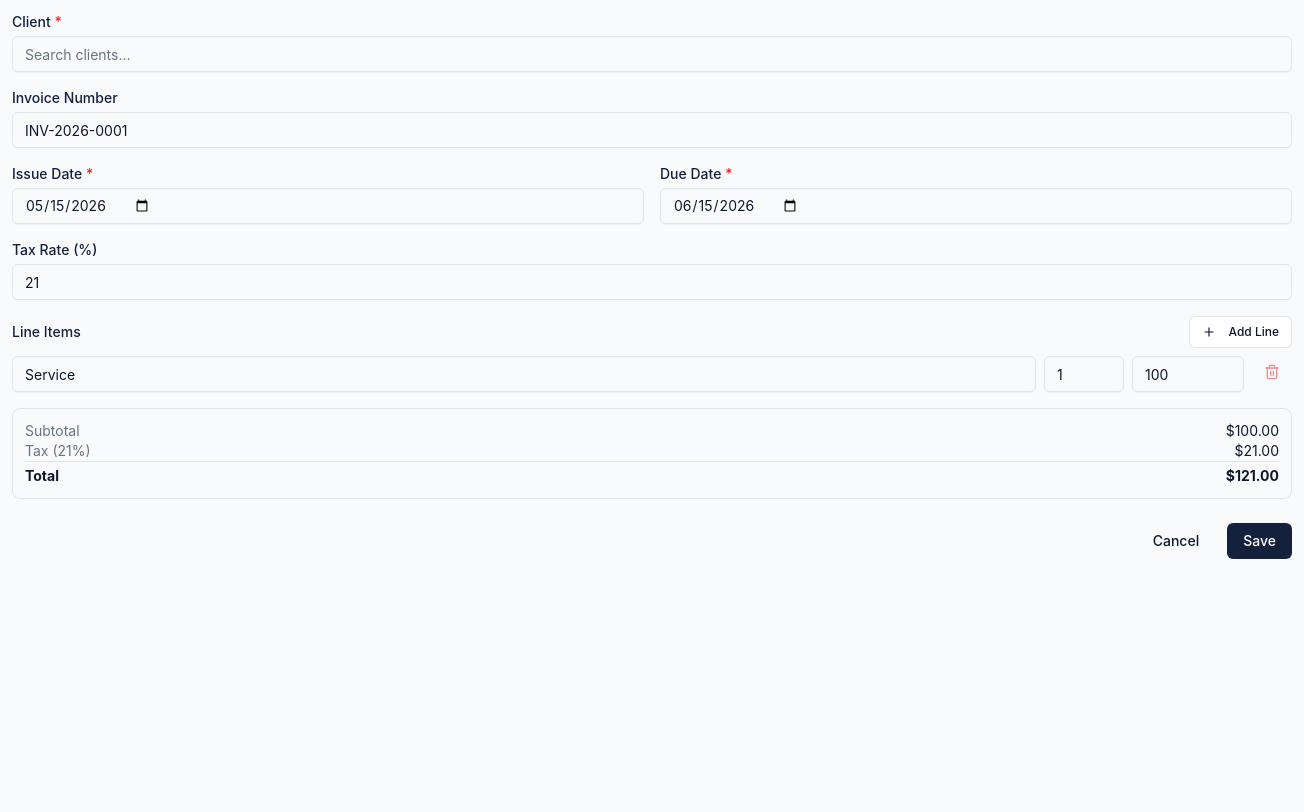
Scenario: InvoiceForm › shows server error for non-ApiError exception
Click the button with test id "btn-submit" at (1260, 541), box [1227,523,1292,559]
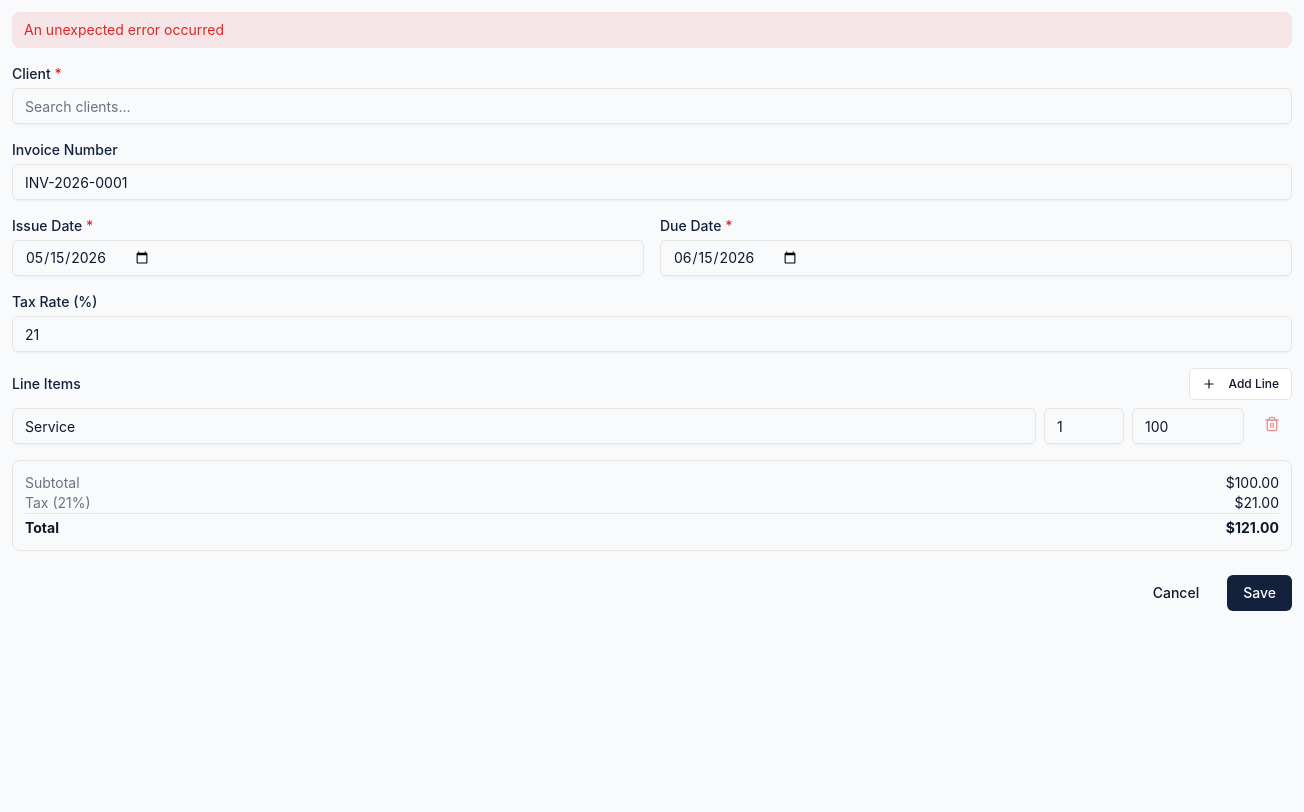
Expected: the message "An unexpected error occurred" is shown, [12,12,1292,48]
